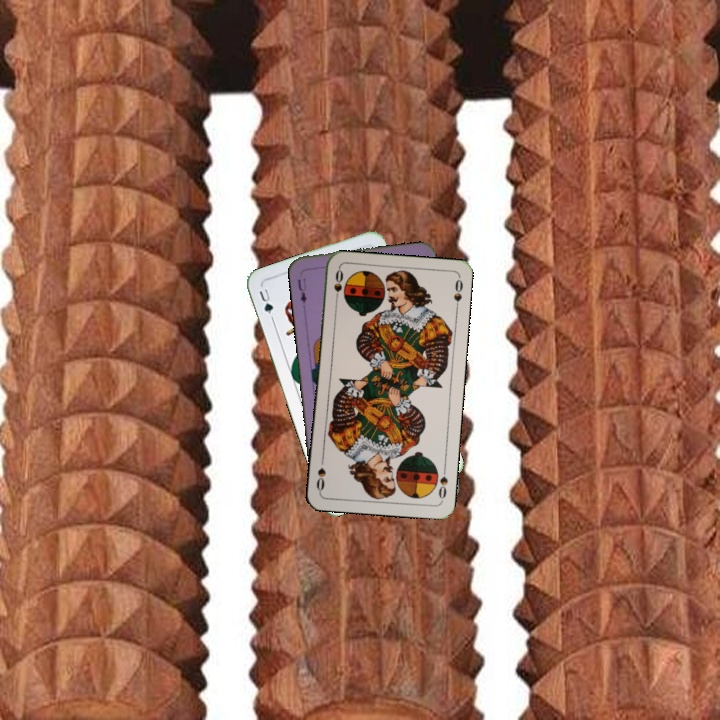EU: (294, 274, 309, 306)
GU: (255, 284, 276, 316)
SO: (330, 265, 346, 306), (434, 463, 450, 503)
